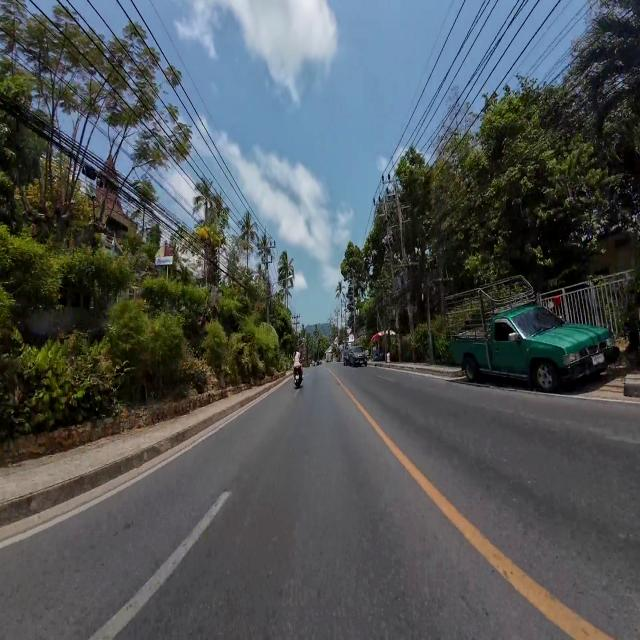car: (439, 271, 621, 394), (348, 346, 367, 366)
motorcycle: (293, 366, 303, 388)
